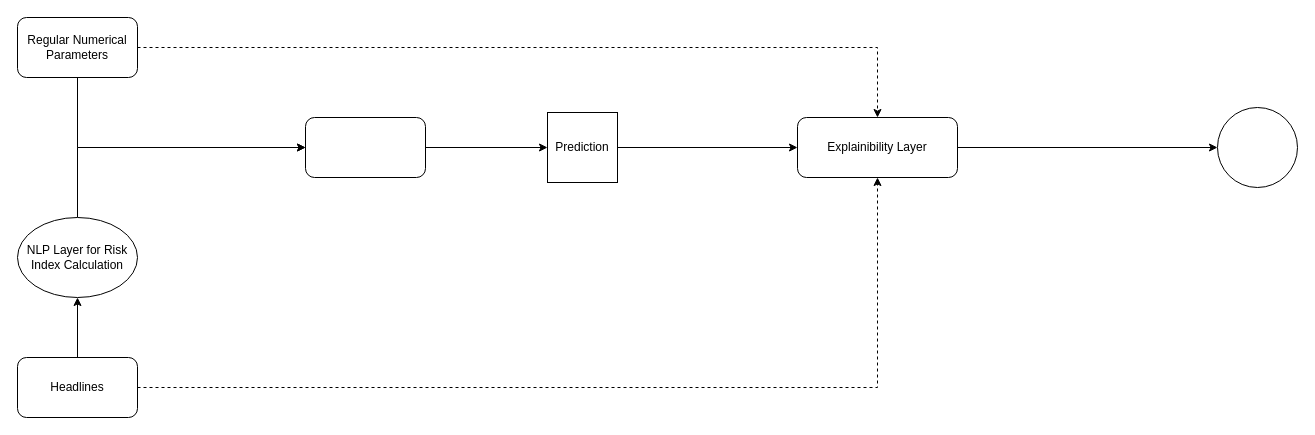
Image size: 1315x435. Some labels were removed from this diagram. The shapes that lost their labels are listed below. From the top down, each one's centre as x and y in pixels, then its label:
[365,147]: ESN
[1257,147]: End User
